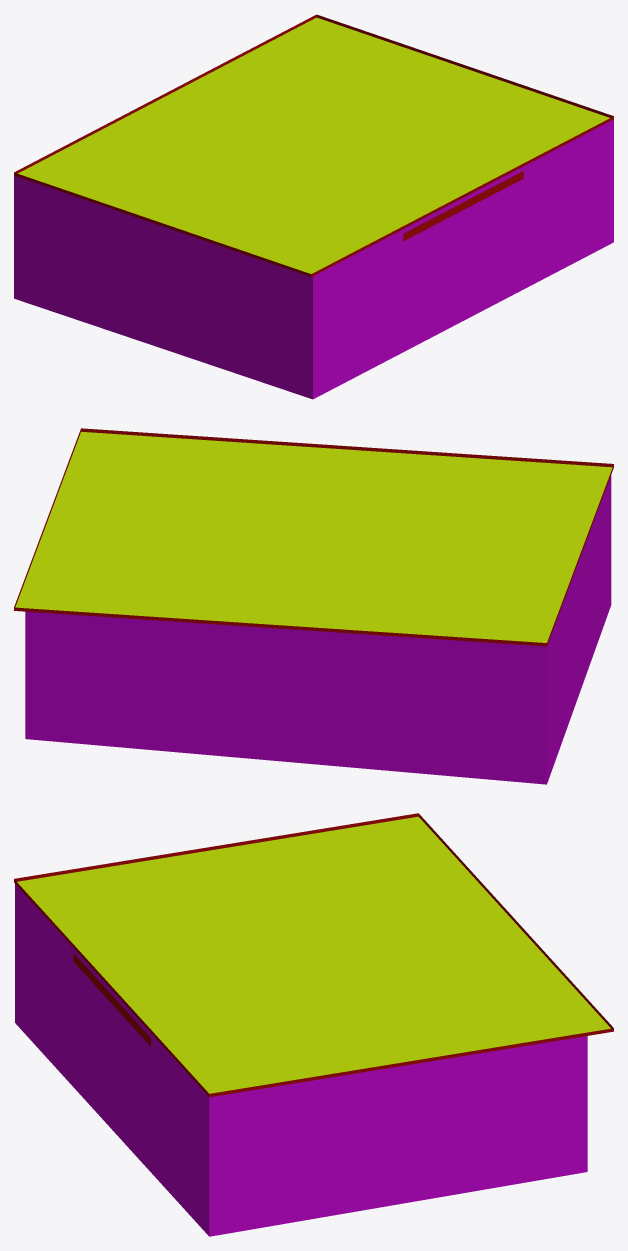
Rendered from sdt_23.glb.
The picture shows the model from 3 angles, top to bottom: view 1: azimuth 30°, elevation 25°; view 2: azimuth 150°, elevation 25°; view 3: azimuth 270°, elevation 25°; orthographic projection. The views are drawn at different scales.
Visible parts, largest first — view 1: sdt_23; view 2: sdt_23; view 3: sdt_23.
Boxes of the visible parts, box(x1,y1,x2,y2) form: sdt_23: box(14, 14, 613, 399); sdt_23: box(14, 428, 613, 784); sdt_23: box(14, 813, 613, 1236).
Size of the model in its own units: 61.05 by 14.5 by 55.15.
